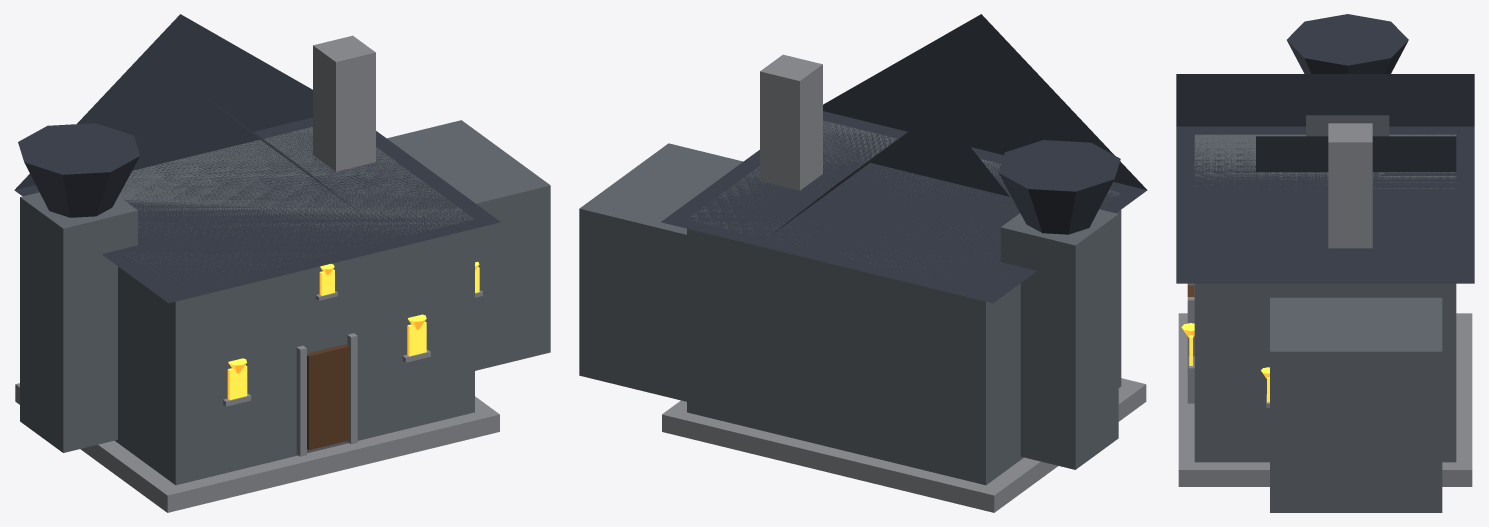
File: house_lv3.glb
3 views of the same model, side by side, from view 1: azimuth 30°, elevation 25°; view 2: azimuth 150°, elevation 25°; view 3: azimuth 270°, elevation 25° (orthographic). The views are drawn at different scales.
Visible parts, largest first — view 1: Walls, Roof, LeftTower, RightWing, Foundation, LeftTowerRoof, Chimney, RightWingRoof, Door, DoorL, DoorR, FrontWindow0_Glow; view 2: Walls, Roof, RightWing, LeftTower, Foundation, LeftTowerRoof, Chimney, RightWingRoof; view 3: Roof, RightWing, Walls, Foundation, LeftTowerRoof, RightWingRoof, Chimney, LeftTower, DoorR.
Boxes of the visible parts, x1,y1,x2,y2 form: Walls: [115, 127, 474, 485]; Roof: [14, 14, 500, 303]; LeftTower: [20, 192, 137, 452]; RightWing: [387, 120, 550, 370]; Foundation: [15, 383, 499, 512]; LeftTowerRoof: [18, 123, 139, 217]; Chimney: [313, 35, 375, 171]; RightWingRoof: [132, 85, 358, 211]; Door: [307, 344, 349, 450]; DoorL: [296, 345, 306, 456]; DoorR: [347, 333, 357, 444]; FrontWindow0_Glow: [227, 365, 247, 399]; Walls: [687, 120, 1121, 485]; Roof: [661, 14, 1147, 303]; RightWing: [579, 143, 743, 401]; LeftTower: [1000, 209, 1118, 469]; Foundation: [662, 378, 1146, 512]; LeftTowerRoof: [998, 140, 1120, 234]; Chimney: [760, 54, 822, 190]; RightWingRoof: [773, 109, 1009, 233]; Roof: [1176, 74, 1474, 283]; RightWing: [1270, 297, 1442, 512]; Walls: [1194, 134, 1456, 462]; Foundation: [1178, 313, 1472, 486]; LeftTowerRoof: [1287, 14, 1408, 73]; RightWingRoof: [1256, 136, 1456, 171]; Chimney: [1328, 123, 1372, 248]; LeftTower: [1306, 115, 1389, 136]; DoorR: [1187, 297, 1194, 403].
Size of the model in its own units: 11.7 by 7.96 by 6.44.
